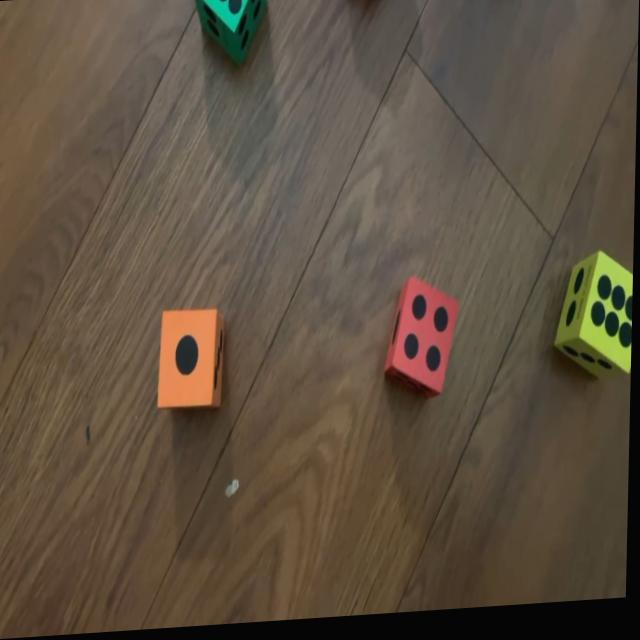cube: (386, 276, 460, 406), (193, 0, 267, 64)
